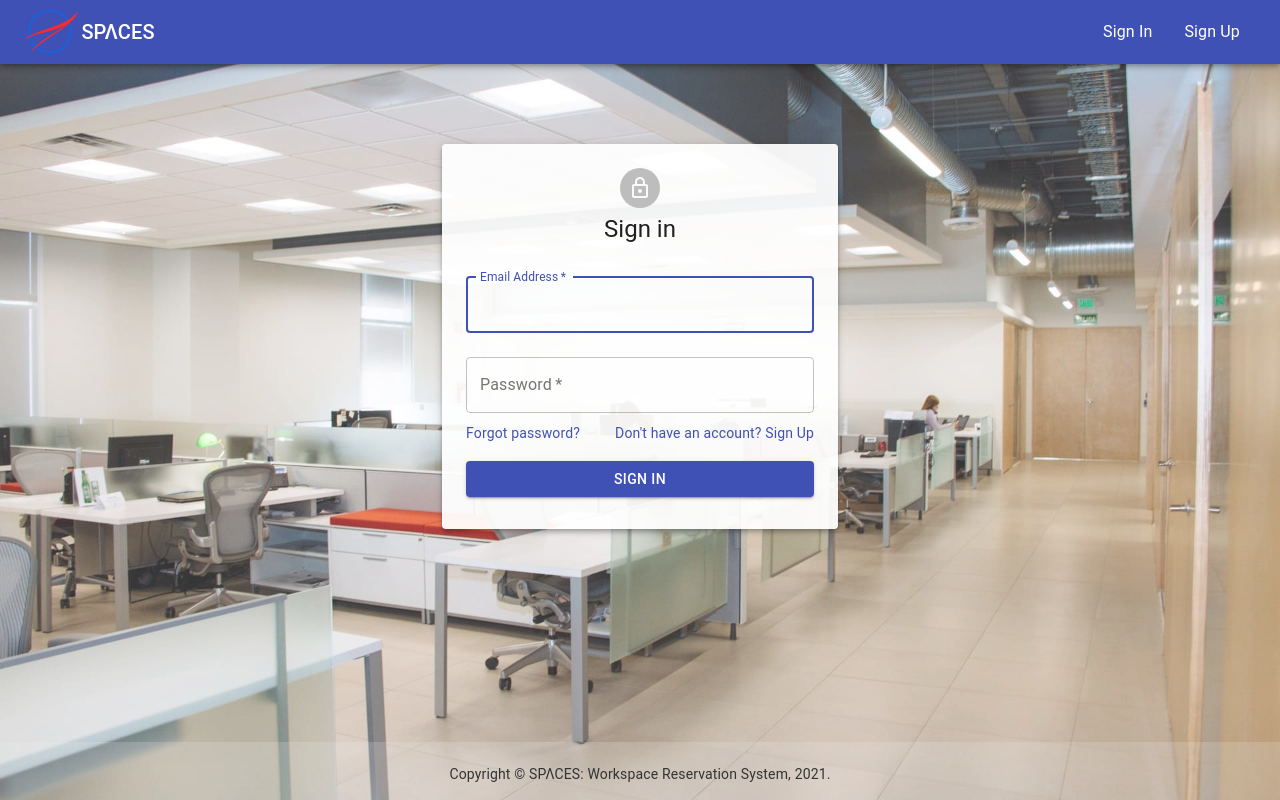
Test: Sign in page › has valid link to Sign Up
Click the link "Don't have an account? Sign Up" at (715, 433), box [615,425,814,441]
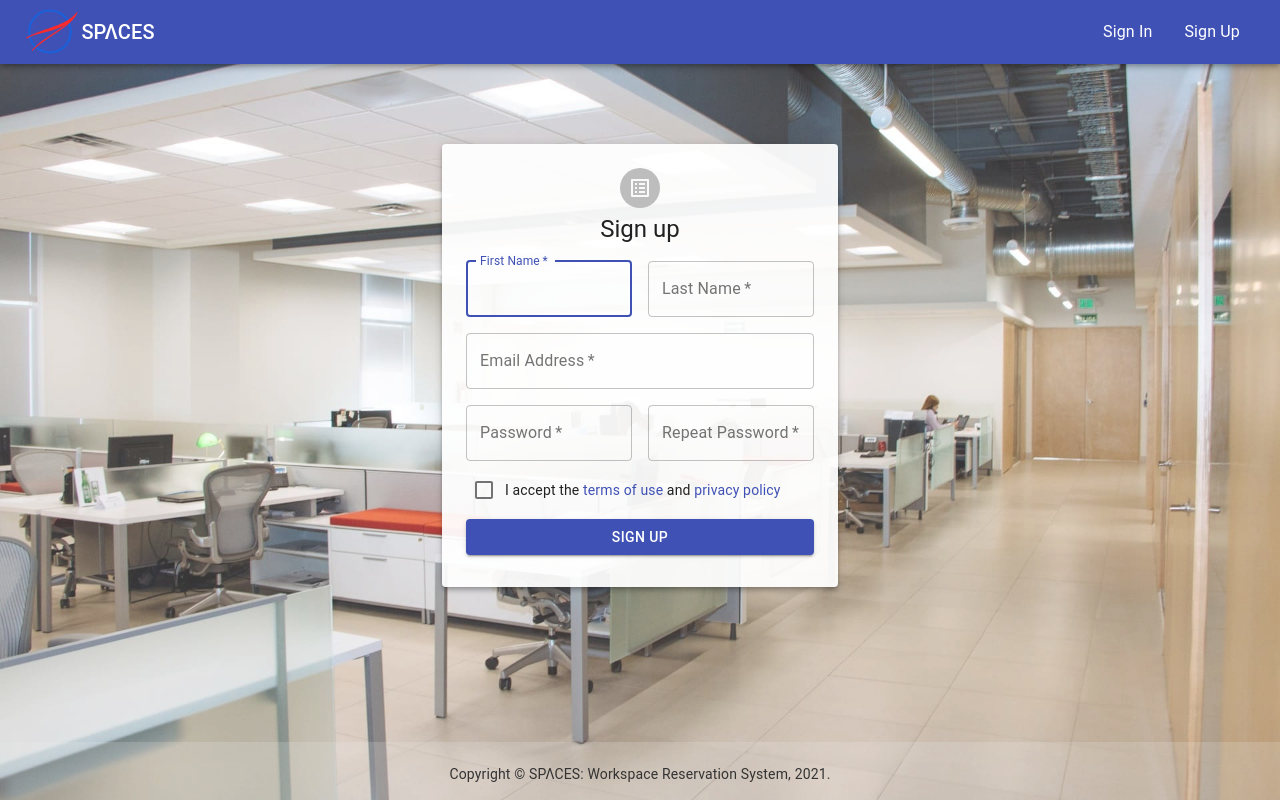
Check: the heading "Sign up" is shown, box [600,213,680,245]
